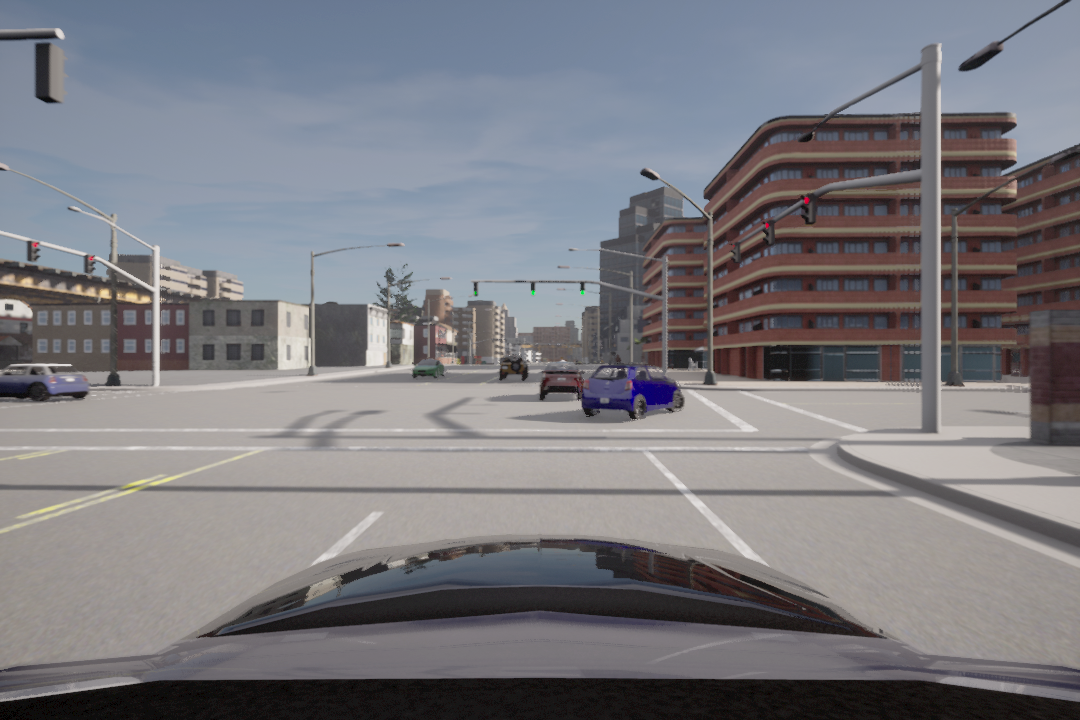TrafficLight: (800, 191, 817, 227), (761, 219, 777, 249), (26, 238, 45, 262), (81, 251, 97, 278), (729, 240, 744, 266), (527, 277, 538, 296), (471, 280, 481, 299), (578, 278, 587, 297)
